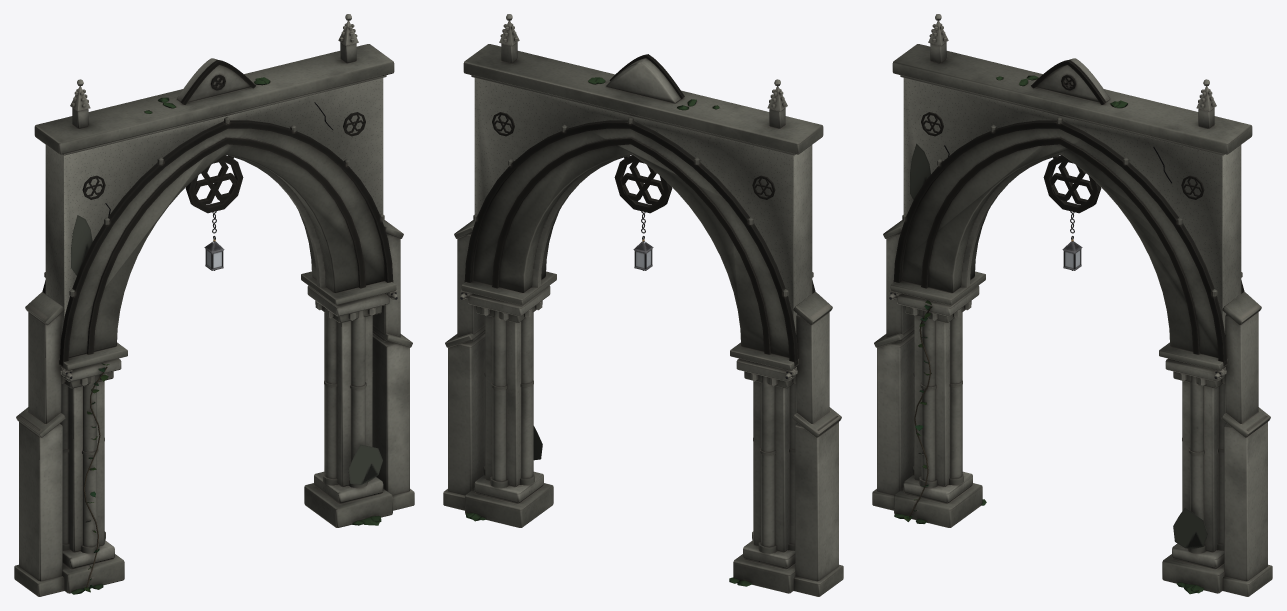
The model's file is CloisterArch.fbx.
The picture shows the model from 3 angles, left to right: view 1: azimuth 30°, elevation 25°; view 2: azimuth 150°, elevation 25°; view 3: azimuth 330°, elevation 25°; orthographic projection.
Visible parts, largest first — view 1: CloisterArch_Main, CloisterArch_Wall; view 2: CloisterArch_Main, CloisterArch_Wall; view 3: CloisterArch_Main, CloisterArch_Wall.
Part boxes in pixels (x1,y1,x2,y2): CloisterArch_Main: (14, 14, 414, 596); CloisterArch_Wall: (45, 78, 383, 334); CloisterArch_Main: (443, 14, 843, 596); CloisterArch_Wall: (474, 78, 812, 334); CloisterArch_Main: (872, 14, 1272, 596); CloisterArch_Wall: (903, 78, 1241, 334).
Size of the model in its own units: 955 by 1206 by 192.
